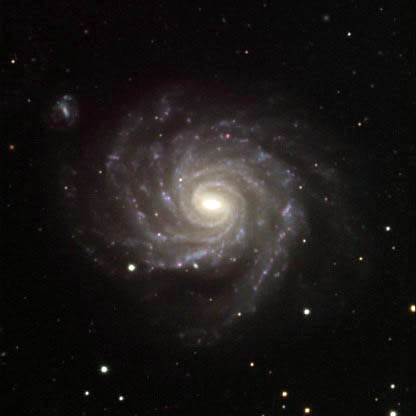NGC 1232: (48, 84, 348, 328)
